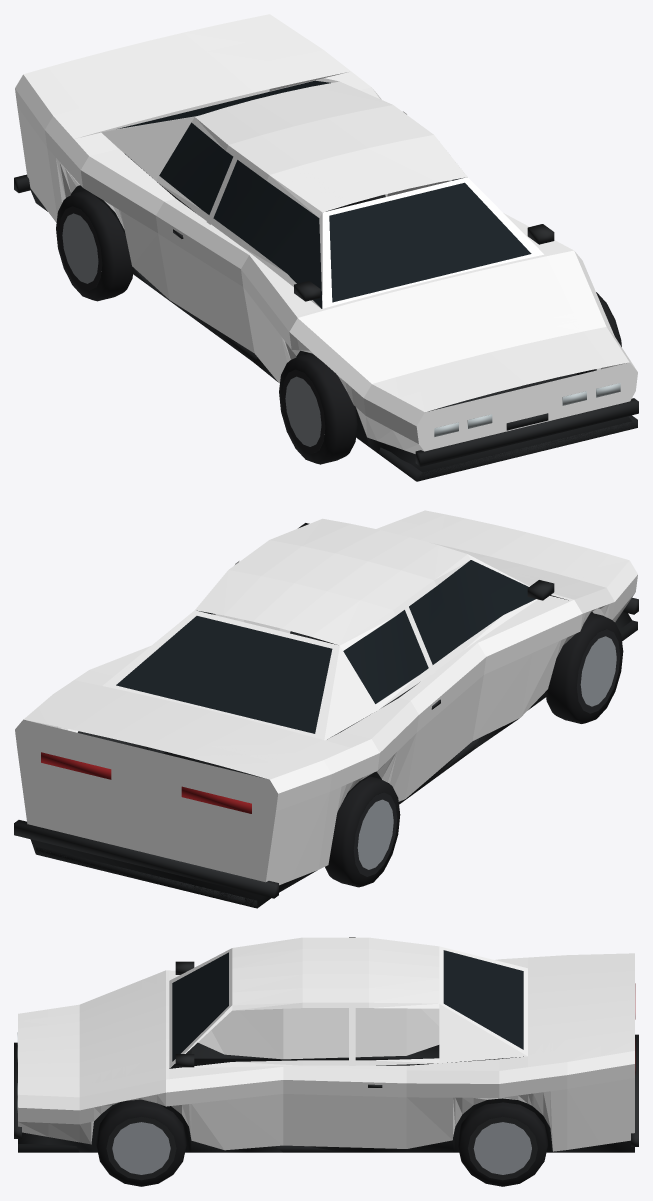
The model's file is vallon_vazante.glb.
3 views of the same model, one above another, from view 1: azimuth 30°, elevation 25°; view 2: azimuth 150°, elevation 25°; view 3: azimuth 270°, elevation 25° (orthographic). The views are drawn at different scales.
Parts seen in each view (by area): view 1: Body_Paint, Body_Details, Mount_FrontLeft_Wheel_Details, Mount_RearLeft_Wheel_Details; view 2: Body_Paint, Body_Details, Mount_FrontLeft_Wheel_Details, Mount_RearLeft_Wheel_Details; view 3: Body_Paint, Body_Details, Mount_FrontRight_Wheel_Details, Mount_RearRight_Wheel_Details.
Boxes of the visible parts, x1,y1,x2,y2 form: Body_Paint: [15, 14, 637, 453]; Body_Details: [14, 80, 638, 481]; Mount_FrontLeft_Wheel_Details: [279, 353, 357, 464]; Mount_RearLeft_Wheel_Details: [56, 190, 133, 301]; Body_Paint: [15, 510, 637, 885]; Body_Details: [14, 523, 638, 908]; Mount_FrontLeft_Wheel_Details: [545, 612, 623, 723]; Mount_RearLeft_Wheel_Details: [325, 776, 400, 887]; Body_Paint: [18, 937, 634, 1151]; Body_Details: [14, 950, 638, 1152]; Mount_FrontRight_Wheel_Details: [96, 1099, 186, 1186]; Mount_RearRight_Wheel_Details: [458, 1102, 547, 1186].
Size of the model in its own units: 1.96 by 1.26 by 4.38.
2 materials, 1 textured.
